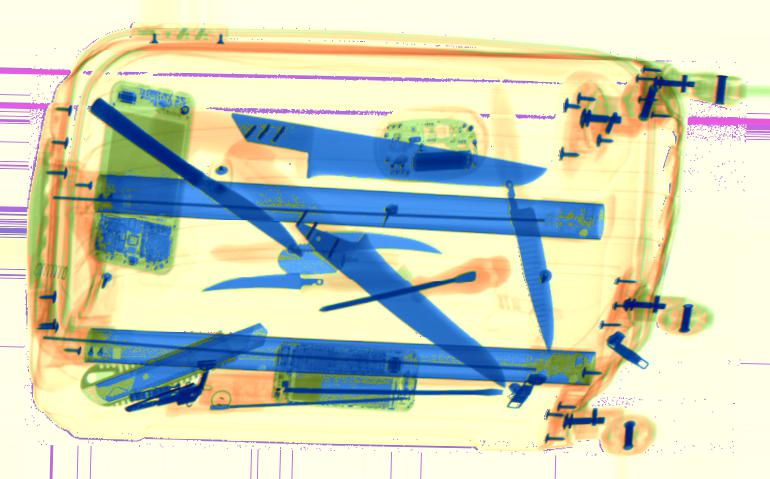Knife: (296, 221, 507, 388), (86, 97, 302, 258), (222, 112, 547, 187), (499, 176, 557, 351), (304, 231, 443, 254), (201, 274, 351, 294), (280, 245, 358, 272)
